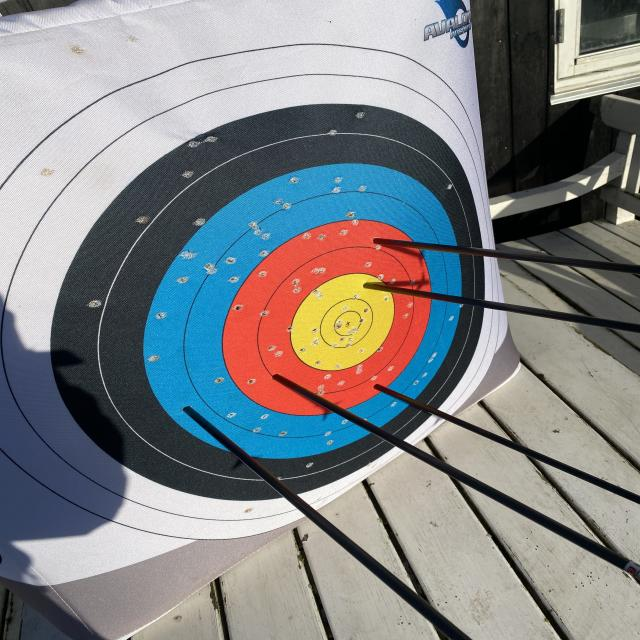Arrow_Blue: (150, 394, 230, 428)
Arrow_Red: (348, 218, 409, 260), (260, 363, 307, 397), (358, 372, 404, 402)
Arrow_Yellow: (347, 274, 405, 308)
